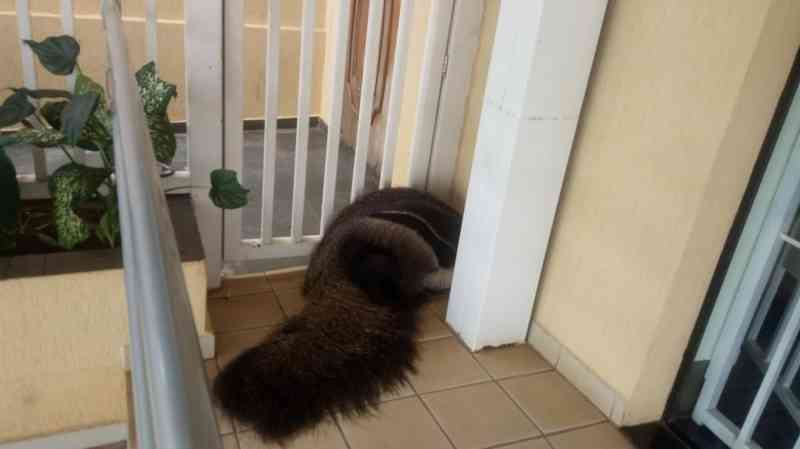TamanduaBandeira: (214, 186, 464, 431)
